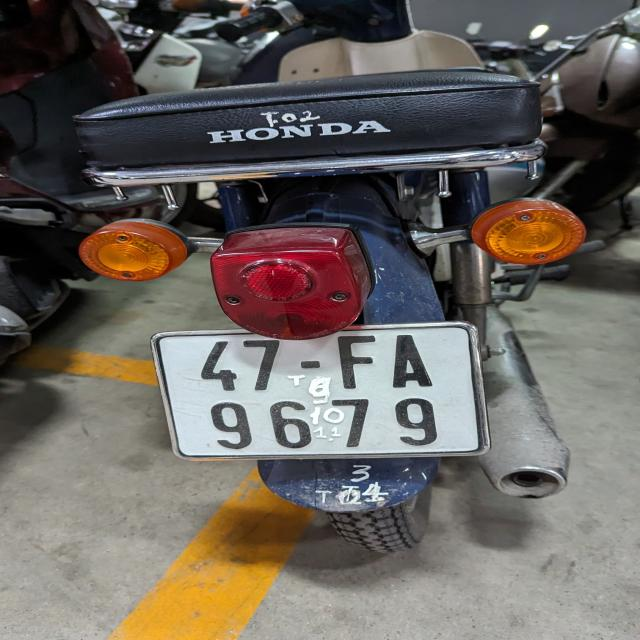License: (149, 321, 490, 461)
